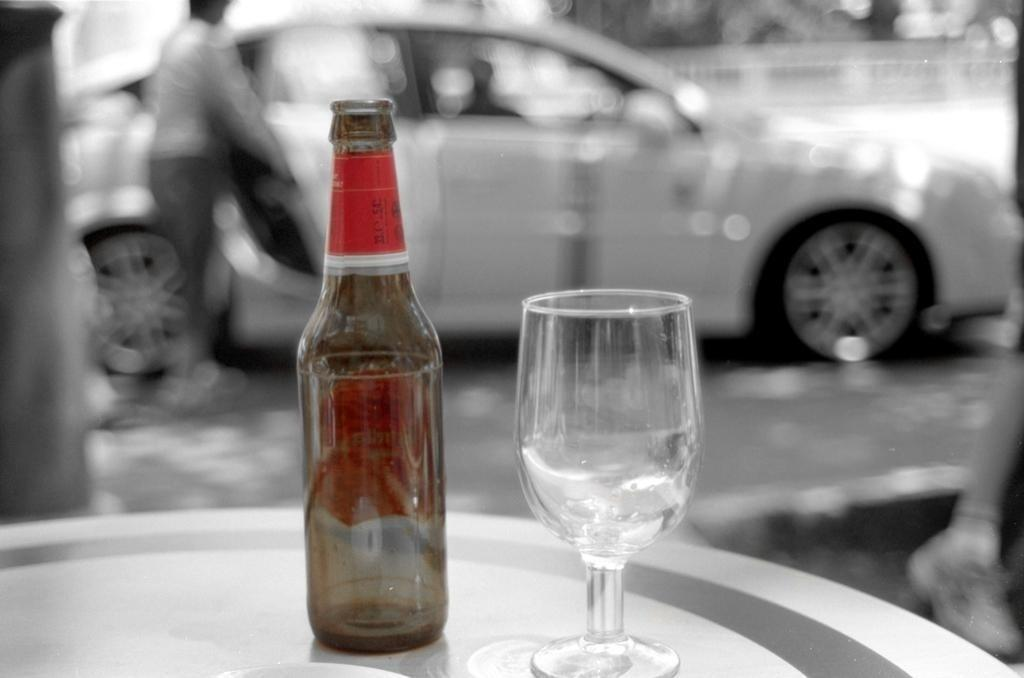bottle-glass: (295, 98, 454, 655)
glass-wine: (517, 286, 702, 677)
